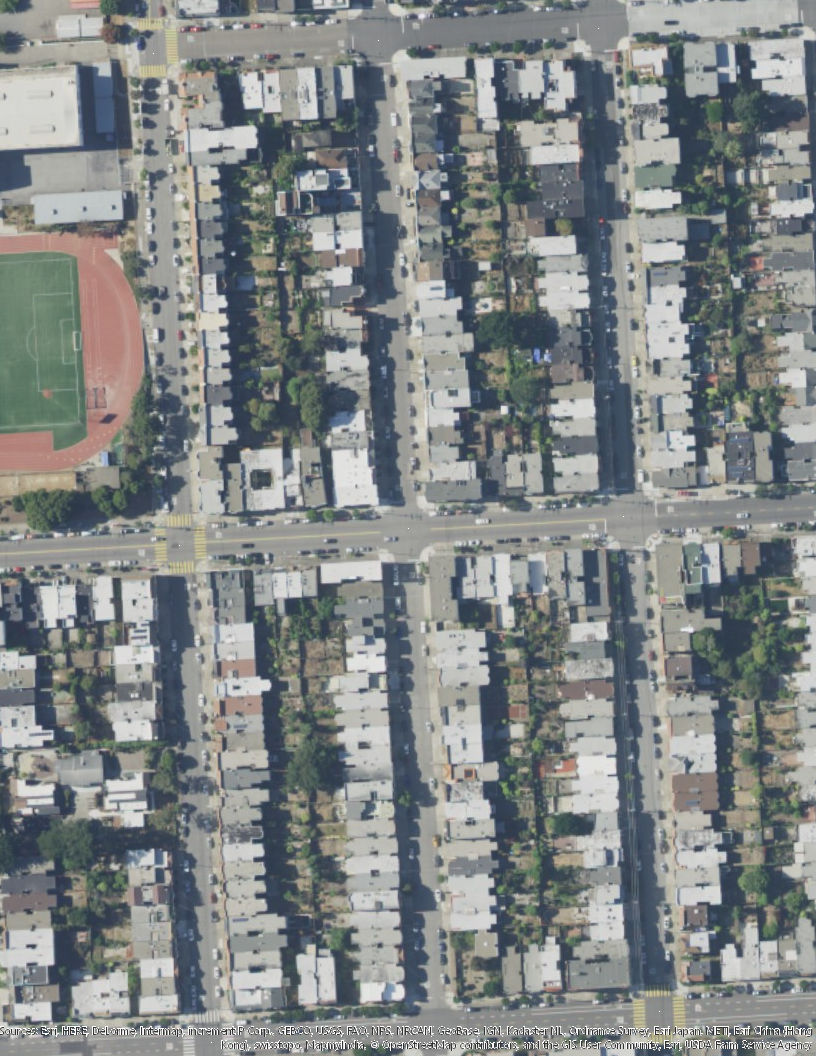zebracross: (152, 528, 168, 562), (192, 528, 208, 561), (163, 31, 178, 64), (671, 998, 686, 1030), (133, 16, 165, 31), (644, 984, 673, 999), (168, 513, 192, 530), (194, 1009, 221, 1023), (632, 1000, 646, 1026), (168, 562, 194, 575), (140, 65, 166, 78), (181, 1036, 197, 1054)
